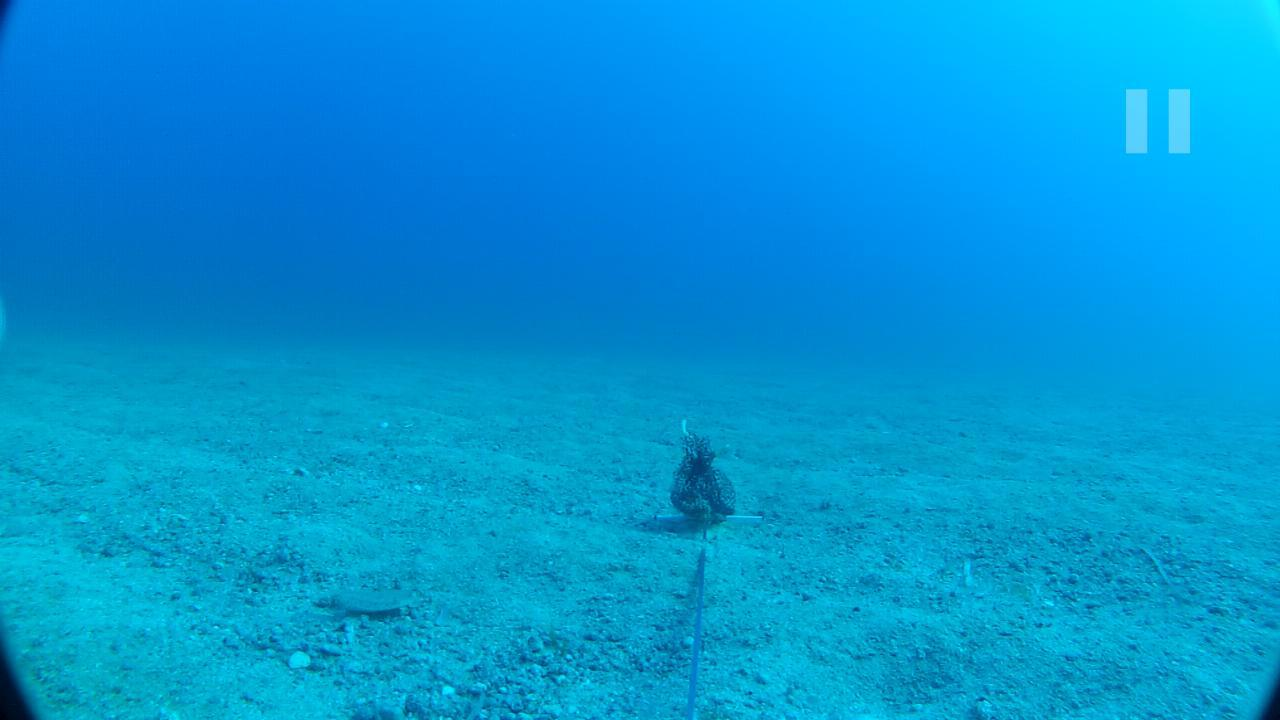bothus: (320, 582, 414, 622)
